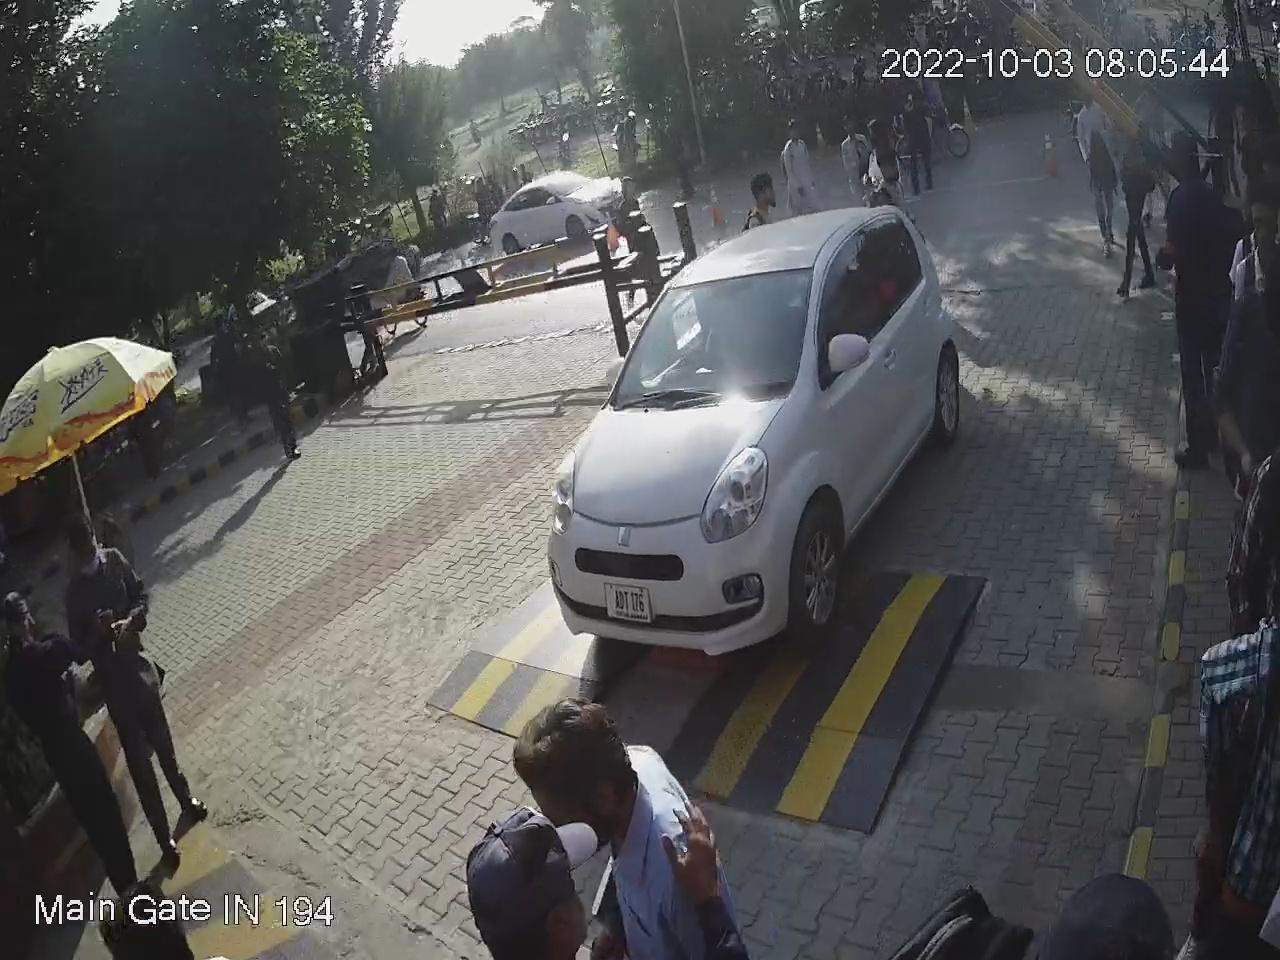windshield: (606, 250, 823, 407)
